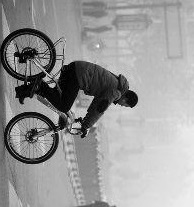person: (15, 61, 139, 140), (75, 200, 118, 207), (84, 25, 113, 33), (82, 10, 108, 18), (82, 1, 108, 7)
